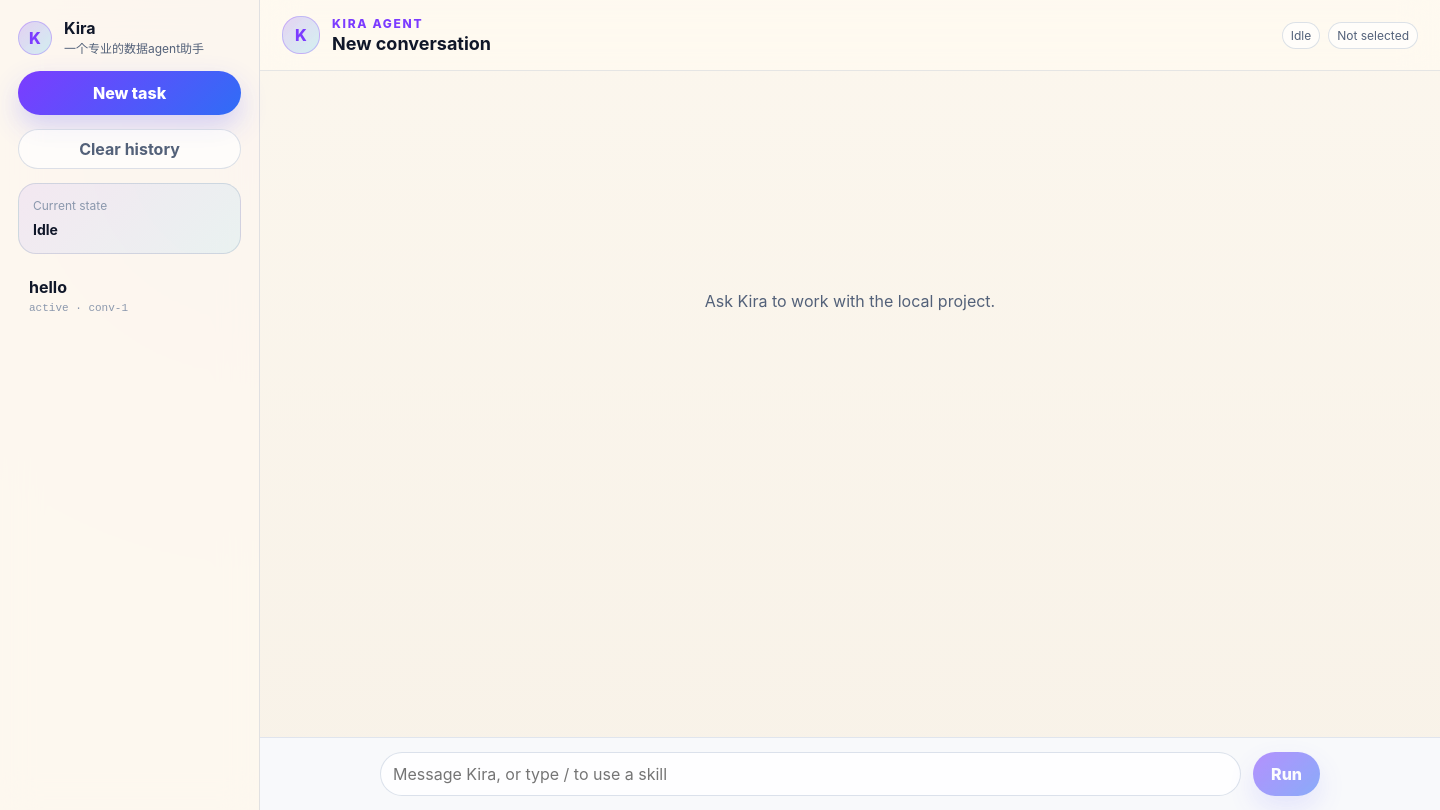
Test: AgentWorkbench › renders transcript rows as chat bubbles from the task rail
The width and height of the screenshot is (1440, 810).
Click the button with aria-label "Select task hello" at x=112, y=296, box [18,268,207,323]
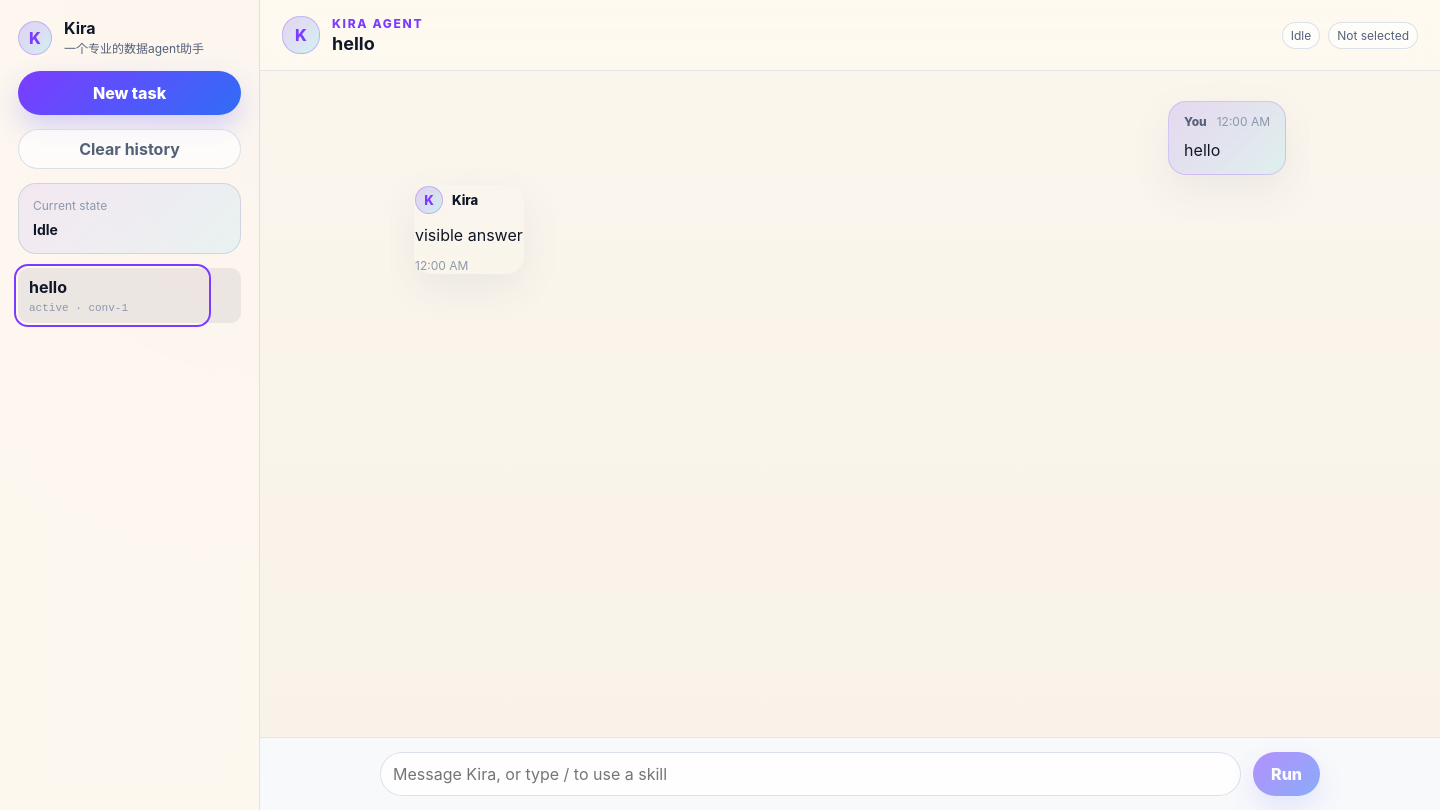
Now the element with test id "transcript-user-row" shows "hello", box [1184,140,1220,160]
Now the element with test id "transcript-answer-row" shows "visible answer", box [415,225,523,245]
Now the element with class "message-bubble" showing "K Kira visible answer 12:00 AM" is shown, box [414,185,524,274]
